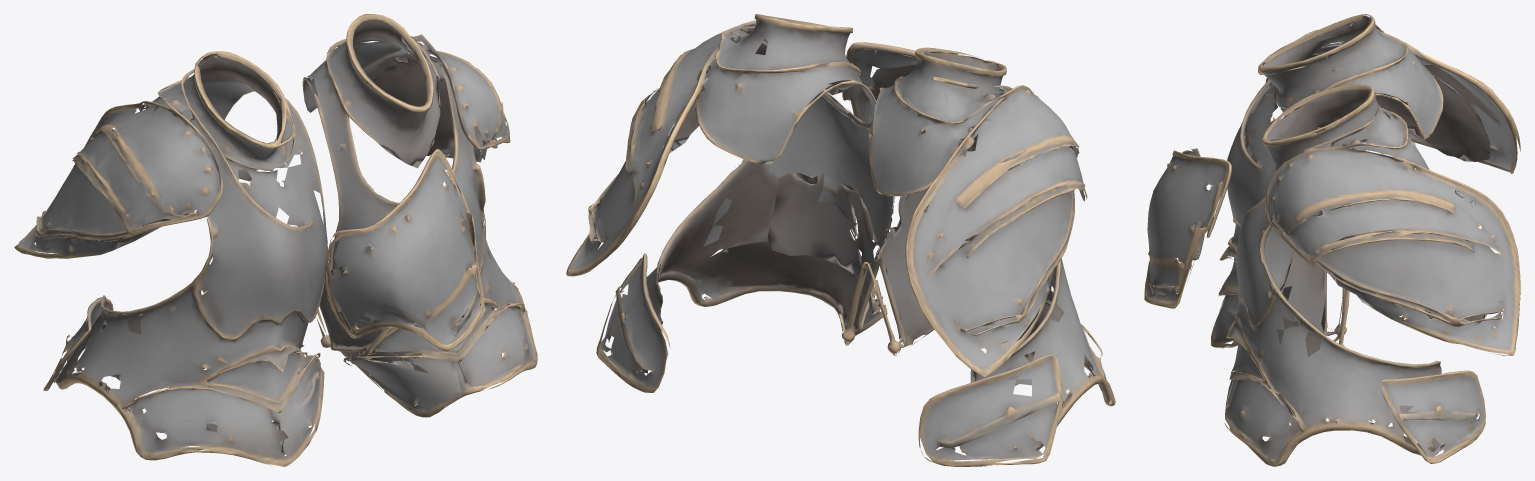
Rendered from armor_warrior_plate_pauldrons.glb.
The picture shows the model from 3 angles, left to right: view 1: azimuth 30°, elevation 25°; view 2: azimuth 150°, elevation 25°; view 3: azimuth 270°, elevation 25°; orthographic projection. The views are drawn at different scales.
Visible parts, largest first — view 1: world; view 2: world; view 3: world.
Boxes of the visible parts, box(x1,y1,x2,y2) form: world: box(14, 14, 537, 466); world: box(566, 14, 1115, 466); world: box(1144, 14, 1520, 466).
Size of the model in its own units: 0.9995 by 0.7888 by 0.8008.
Materials: 1 (1 with a texture image).
